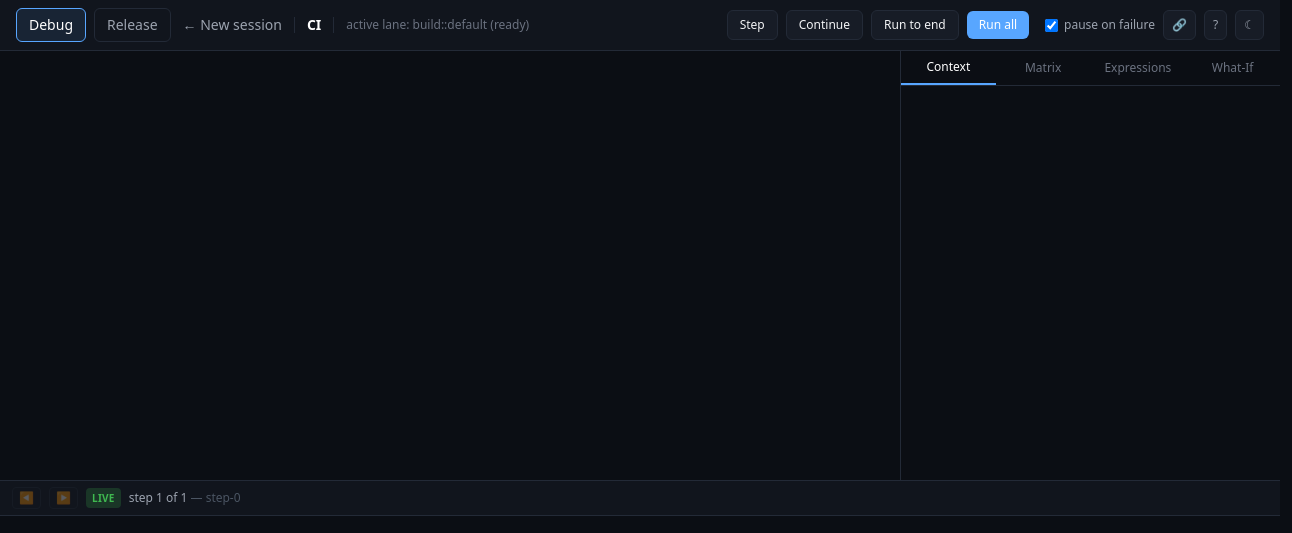
Scenario: DebuggerApp › reports a failed pause-on-failure toggle instead of failing silently
Click the checkbox labelled "pause on failure": (1052, 25) x1=1045 y1=18 x2=1058 y2=32
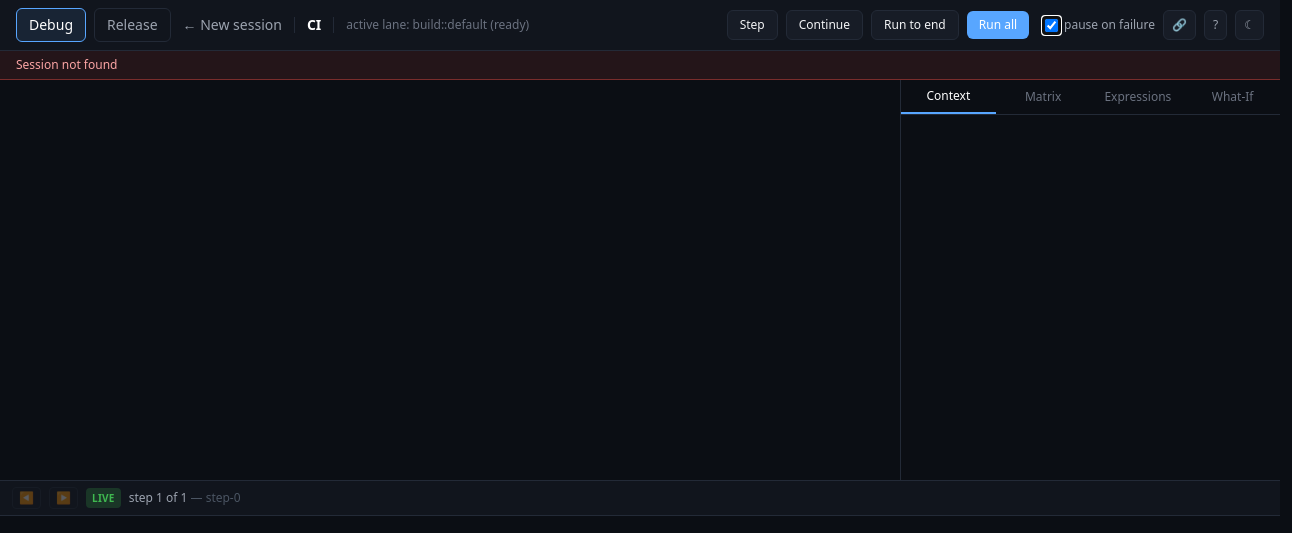
Expected: the text "Session not found" is shown, x1=0 y1=51 x2=1280 y2=80
